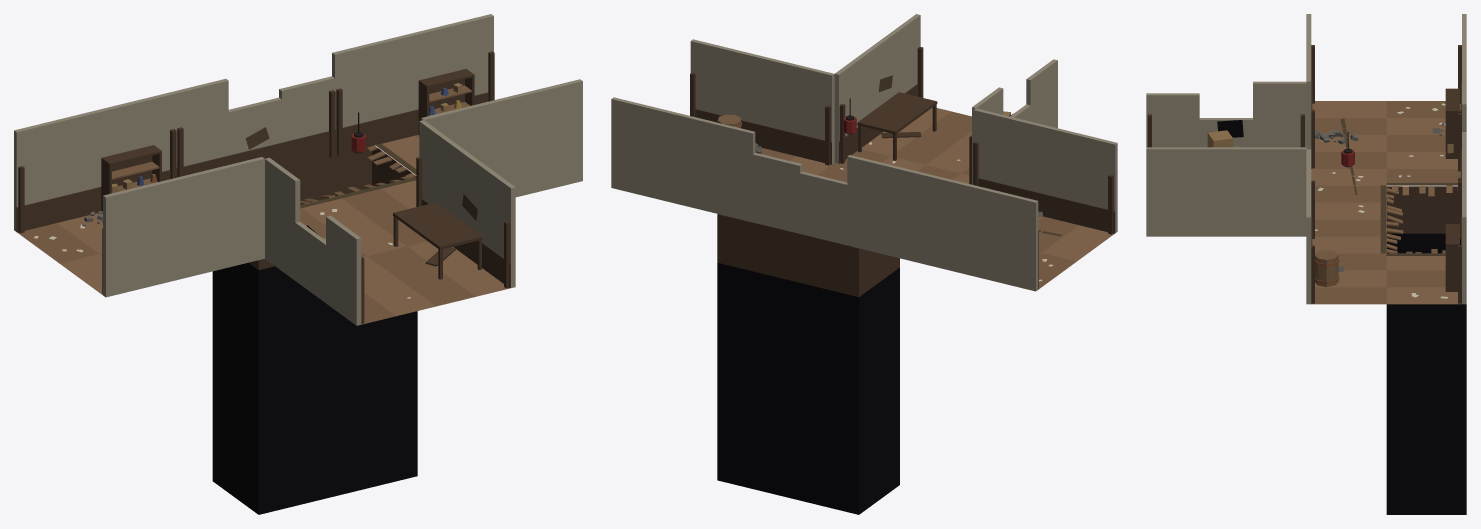
Rendered from f_C_pit.fbx.
The picture shows the model from 3 angles, left to right: view 1: azimuth 30°, elevation 25°; view 2: azimuth 150°, elevation 25°; view 3: azimuth 270°, elevation 25°; orthographic projection. The views are drawn at different scales.
Visible parts, largest first — view 1: f_C_pit, f_C_pit_Deco; view 2: f_C_pit, f_C_pit_Deco; view 3: f_C_pit, f_C_pit_Deco.
Boxes of the visible parts, x1,y1,x2,y2 form: f_C_pit: [14, 14, 582, 325]; f_C_pit_Deco: [16, 51, 510, 514]; f_C_pit: [611, 14, 1117, 291]; f_C_pit_Deco: [690, 47, 1115, 514]; f_C_pit: [1146, 14, 1466, 304]; f_C_pit_Deco: [1147, 45, 1466, 514].
Bounding box in the file's own units: 1.33 × 2 × 1.6.
